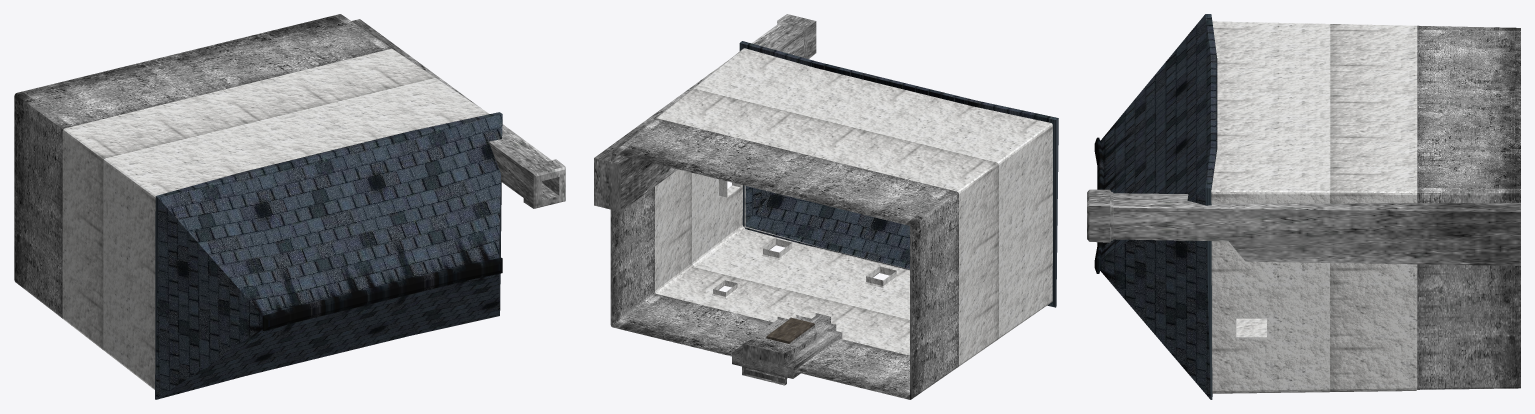
The model's file is hanshouse2k_wtf.obj.
3 renders of one model, left to right at view 1: azimuth 30°, elevation 25°; view 2: azimuth 150°, elevation 25°; view 3: azimuth 270°, elevation 25°, orthographic. The views are drawn at different scales.
Visible parts, largest first — view 1: group7, group16, group3, group8, group5; view 2: group16, group3, group7, group5, group17, group10, group8; view 3: group16, group3, group5, group7, group8.
Boxes of the visible parts, x1,y1,x2,y2 form: group7: (155,112,502,399); group16: (62,48,489,389); group3: (14,14,392,318); group8: (155,120,502,399); group5: (351,19,565,208); group16: (655,48,1052,366); group3: (610,118,958,399); group7: (739,41,1058,307); group5: (594,14,816,211); group17: (732,313,842,378); group10: (766,317,814,343); group8: (745,186,772,222); group16: (1211,21,1417,393); group3: (1417,25,1520,389); group5: (1087,189,1520,265); group7: (1094,14,1217,399); group8: (1100,189,1210,399).
Bounding box in the file's own units: 645 × 375 × 660.
